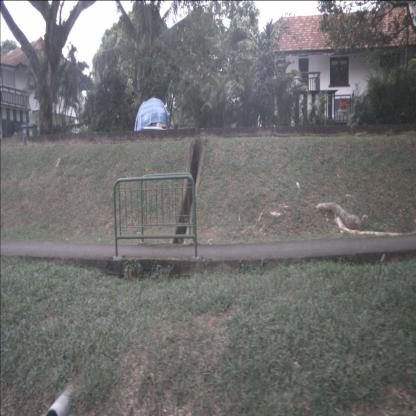vehicle-car: (134, 98, 170, 138)
